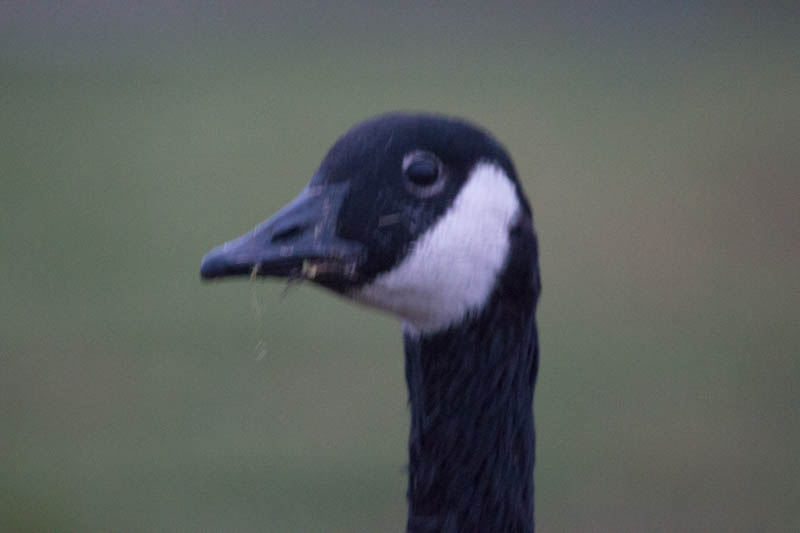goose-head: (200, 110, 540, 333)
